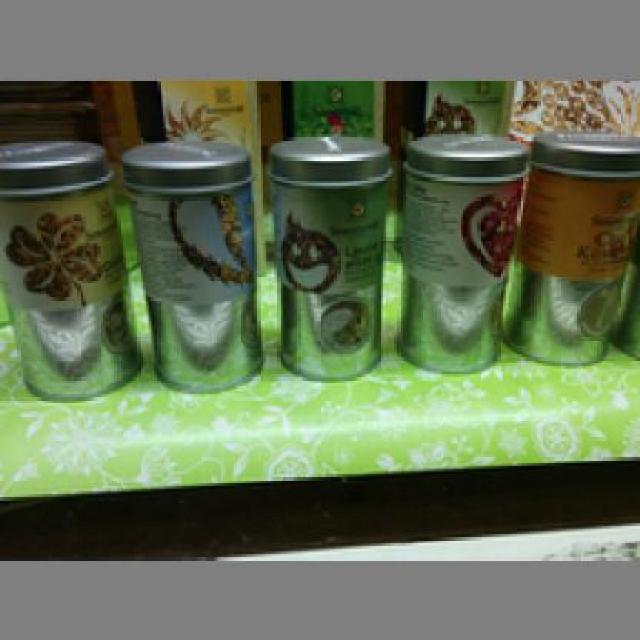Spices: (120, 134, 263, 394), (0, 137, 137, 400), (500, 128, 637, 372), (394, 132, 530, 372), (268, 132, 388, 378)
